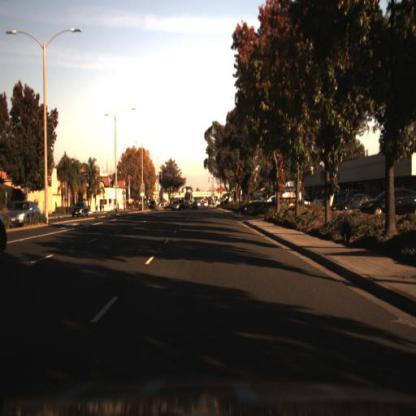car: (9, 199, 42, 228), (1, 200, 13, 268), (335, 191, 365, 216), (71, 198, 93, 225), (70, 201, 92, 222), (263, 192, 286, 208), (171, 197, 184, 213), (192, 198, 200, 212)
